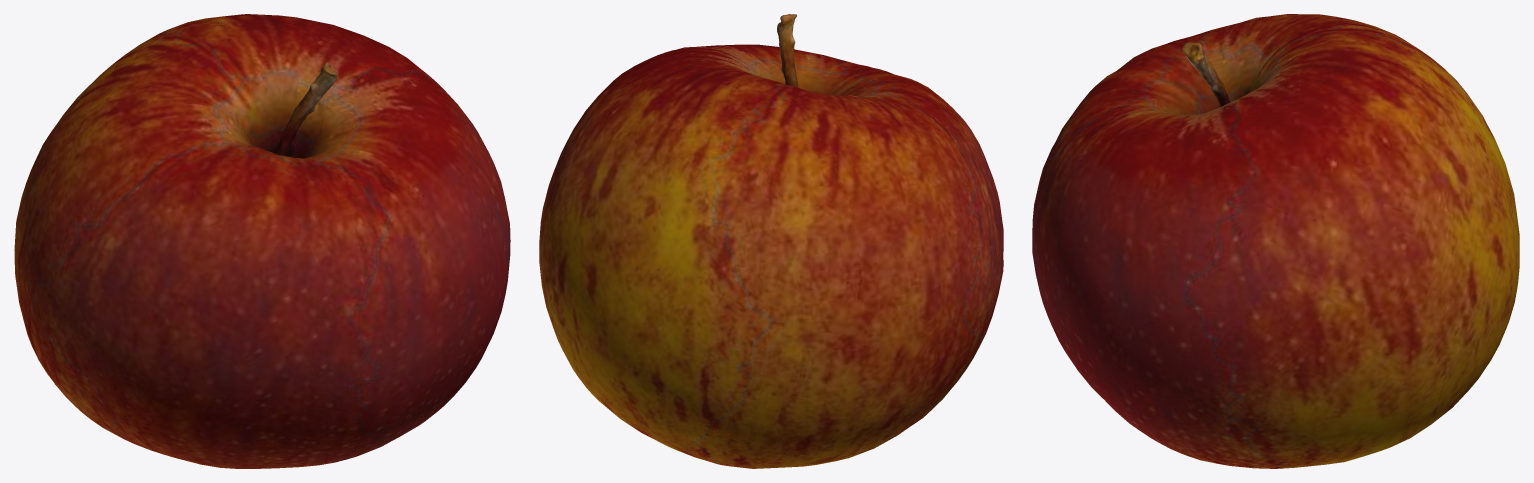
The model's file is food_apple_01.glb.
The picture shows the model from 3 angles, left to right: view 1: azimuth 30°, elevation 25°; view 2: azimuth 150°, elevation 25°; view 3: azimuth 270°, elevation 25°; orthographic projection. The views are drawn at different scales.
Visible parts, largest first — view 1: food_apple_01; view 2: food_apple_01; view 3: food_apple_01.
Boxes of the visible parts, bbox=[...] form: food_apple_01: bbox=[14, 14, 510, 468]; food_apple_01: bbox=[539, 14, 1003, 468]; food_apple_01: bbox=[1032, 14, 1519, 468].
Size of the model in its own units: 0.0976 by 0.0854 by 0.0959.
1 material, 1 textured.
